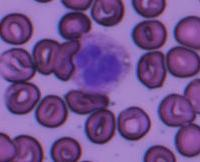N: (70, 32, 130, 94)
